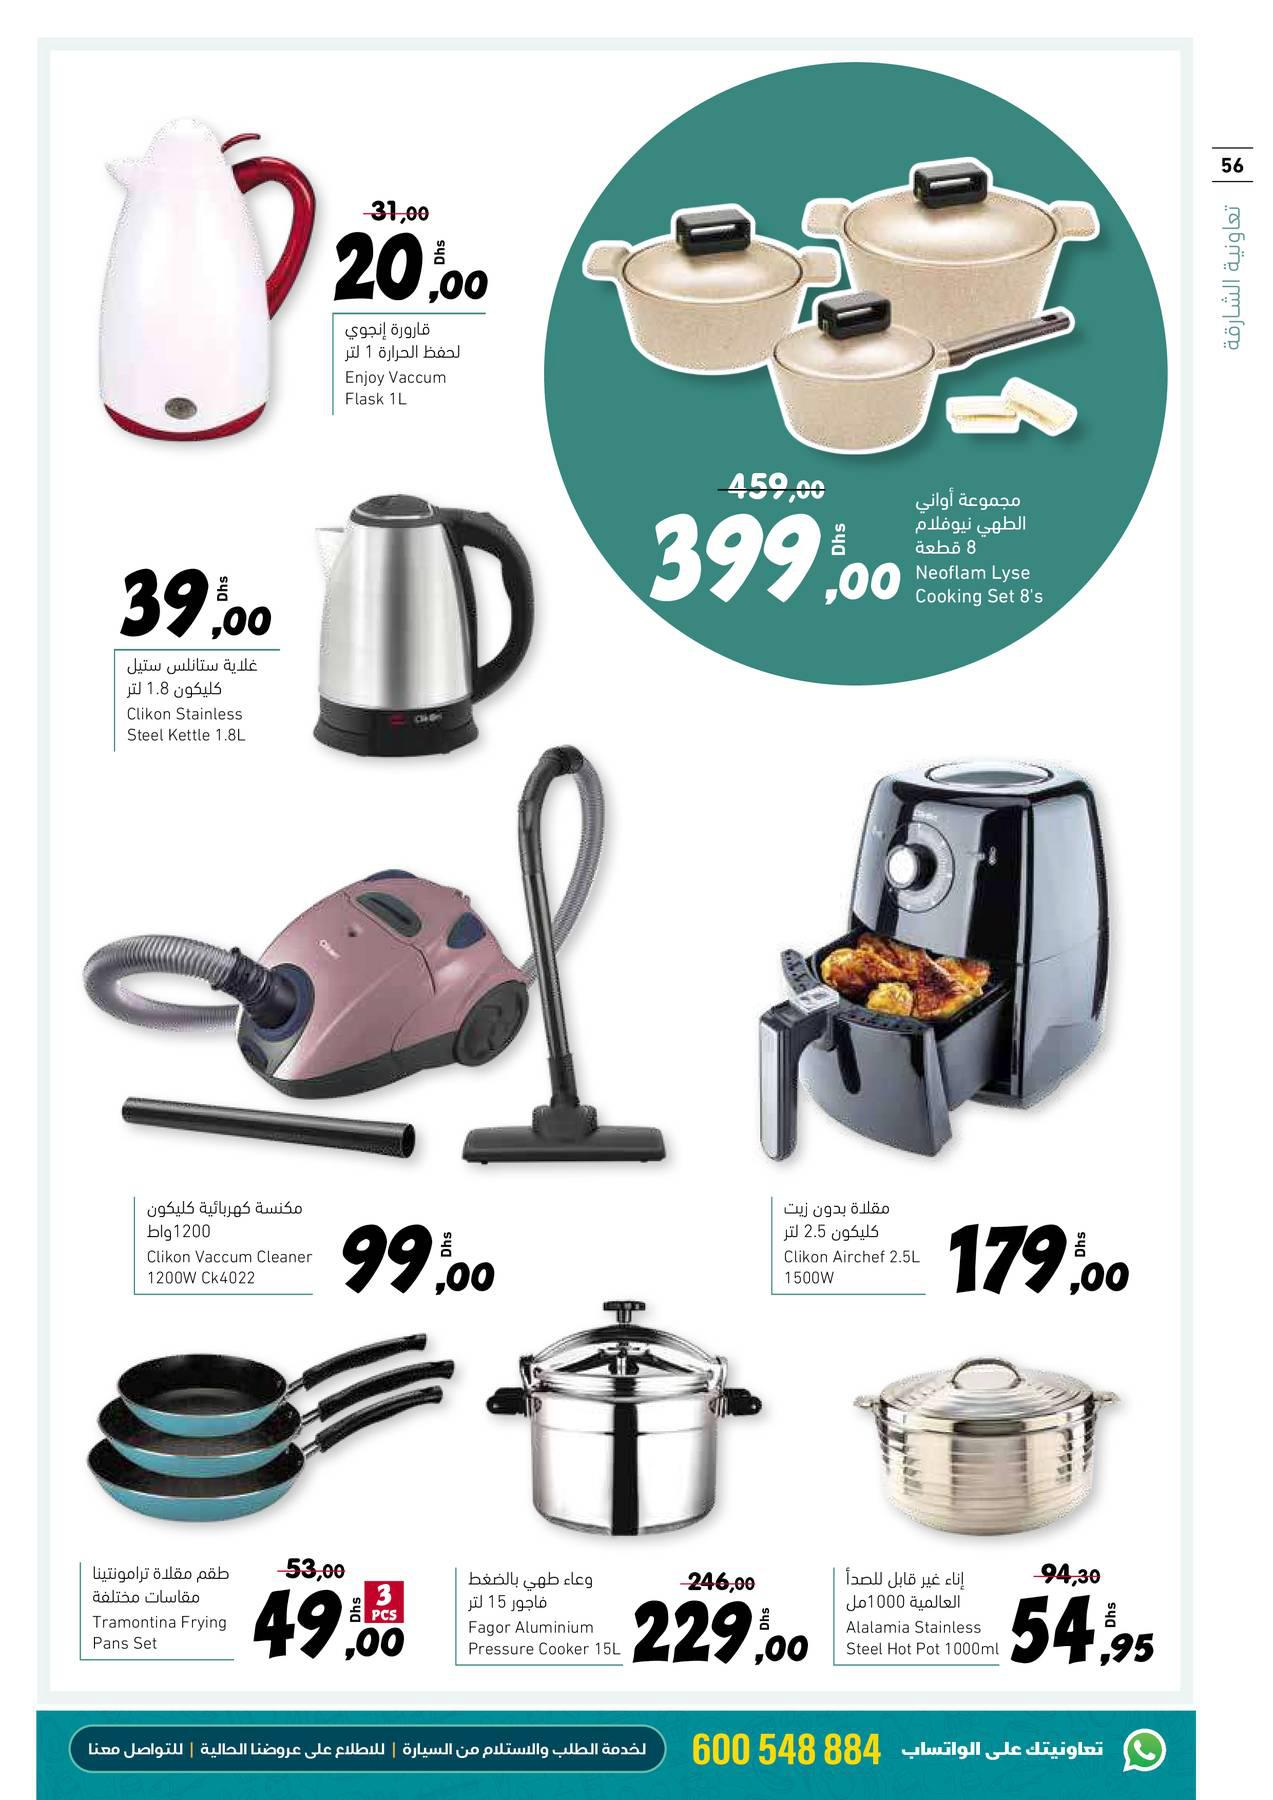text: (911, 483, 1029, 561), (116, 701, 285, 753), (142, 1193, 311, 1244), (462, 1564, 610, 1620), (839, 1560, 982, 1617), (908, 556, 1053, 611), (142, 1246, 320, 1290), (840, 1617, 1004, 1664), (462, 1617, 628, 1662), (85, 1558, 238, 1606), (776, 1245, 930, 1292), (83, 1610, 238, 1655), (118, 656, 276, 700), (338, 320, 486, 365), (338, 366, 486, 410), (778, 1193, 907, 1242)
